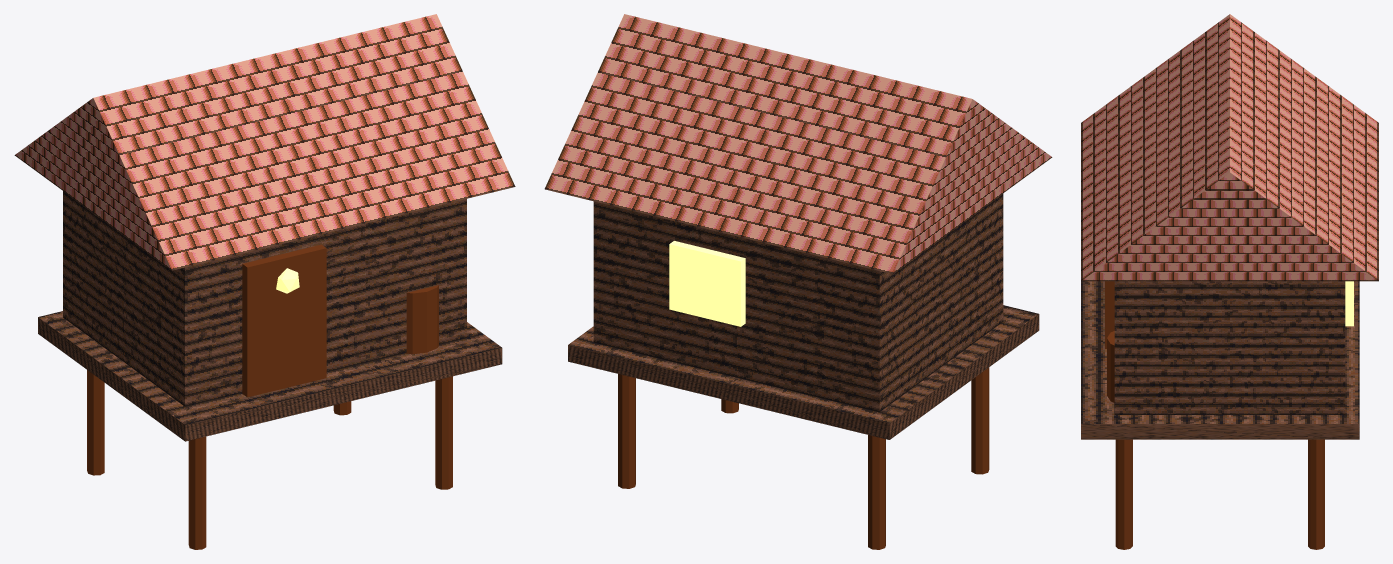
The model's file is casa_bata.glb.
3 renders of one model, left to right at view 1: azimuth 30°, elevation 25°; view 2: azimuth 150°, elevation 25°; view 3: azimuth 270°, elevation 25°, orthographic. The views are drawn at different scales.
Visible parts, largest first — view 1: Bata_Techo, Cube.001, Cube, Cube.002, Cylinder.004, Cylinder, Cylinder.002, Cylinder.001; view 2: Bata_Techo, Cube.001, Cube, Cube.003, Cylinder.001, Cylinder.003, Cylinder; view 3: Bata_Techo, Cube.001, Cube, Cylinder.002, Cylinder.003, Cube.002, Cylinder.004, Cube.003.
Boxes of the visible parts, <box> form: Bata_Techo: <box>14,14,515,270</box>; Cube.001: <box>63,191,466,406</box>; Cube: <box>38,311,502,441</box>; Cube.002: <box>242,244,326,397</box>; Cylinder.004: <box>405,285,438,354</box>; Cylinder: <box>188,436,206,549</box>; Cylinder.002: <box>435,376,452,489</box>; Cylinder.001: <box>87,370,104,475</box>; Bata_Techo: <box>544,14,1052,274</box>; Cube.001: <box>593,193,1003,412</box>; Cube: <box>568,305,1039,439</box>; Cube.003: <box>669,241,745,326</box>; Cylinder.001: <box>868,435,885,549</box>; Cylinder.003: <box>618,374,635,488</box>; Cylinder: <box>971,367,989,474</box>; Bata_Techo: <box>1081,14,1378,281</box>; Cube.001: <box>1114,281,1345,414</box>; Cube: <box>1081,281,1359,439</box>; Cylinder.002: <box>1115,439,1132,549</box>; Cylinder.003: <box>1308,439,1324,549</box>; Cube.002: <box>1105,281,1114,348</box>; Cylinder.004: <box>1107,331,1114,402</box>; Cube.003: <box>1345,281,1353,326</box>.
Size of the model in its own units: 3.9 by 4.55 by 3.1.
4 materials, 2 textured.
